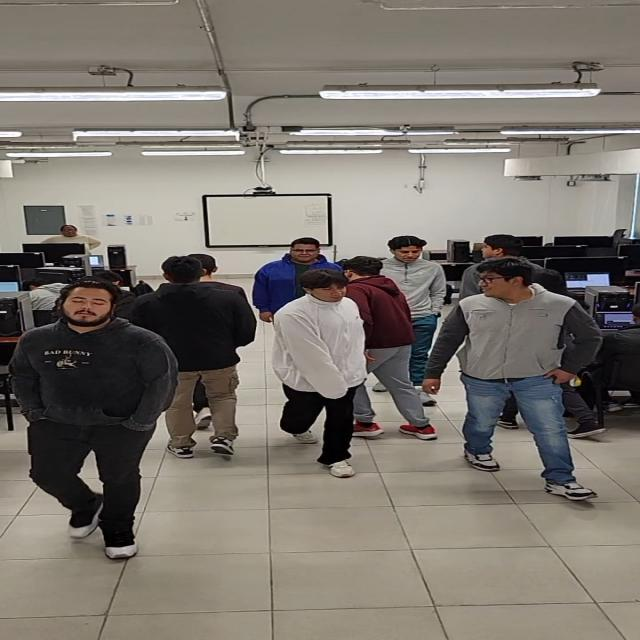Persona: (11, 279, 182, 561), (422, 257, 601, 502), (128, 256, 259, 460), (273, 268, 370, 478), (336, 256, 441, 440), (374, 236, 444, 406), (250, 236, 350, 324), (460, 234, 558, 302)
